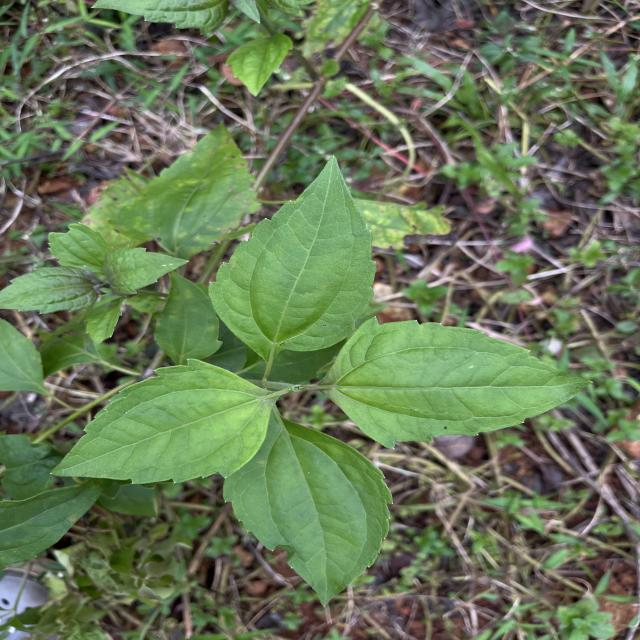Chromolaena odorata: (314, 313, 596, 452), (204, 151, 380, 362), (218, 410, 396, 610), (46, 355, 278, 488)
